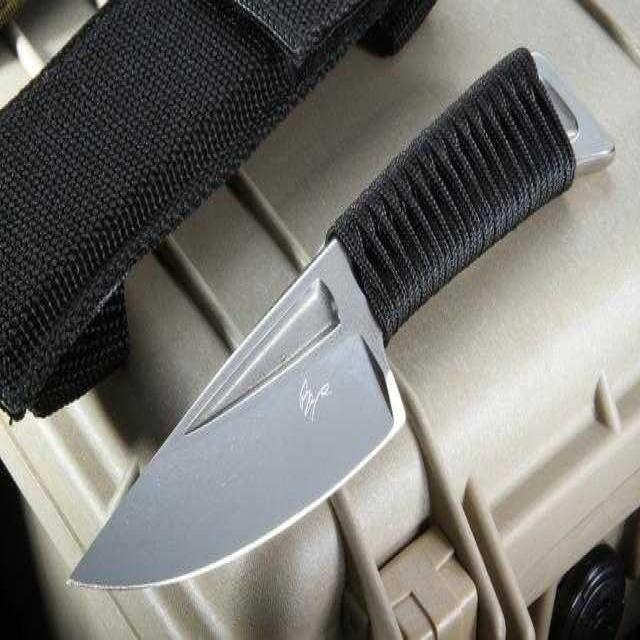knife: (64, 30, 622, 601)
